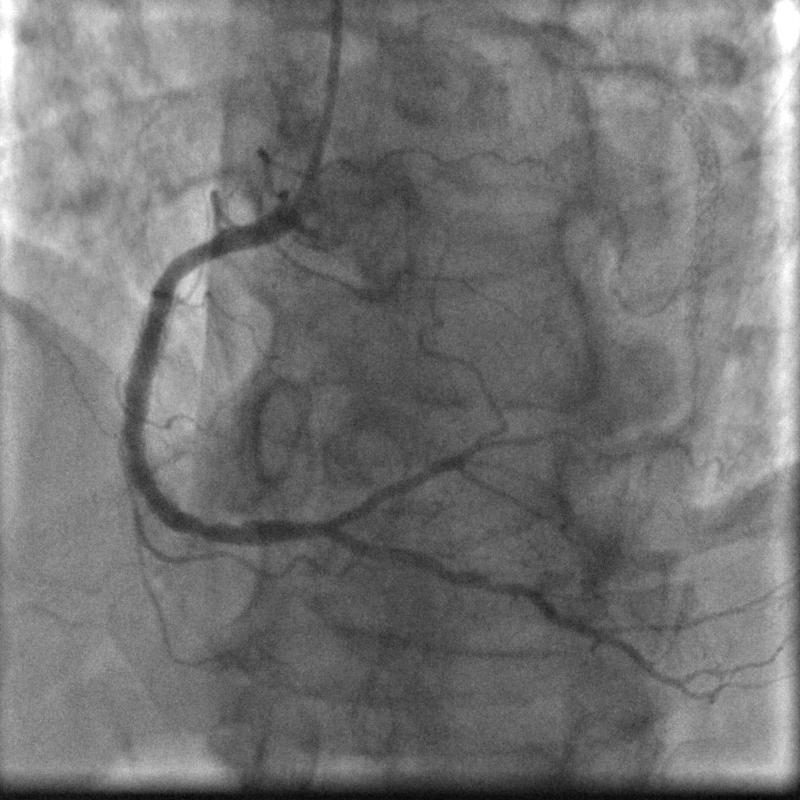Stenosis: (168, 232, 225, 278)
